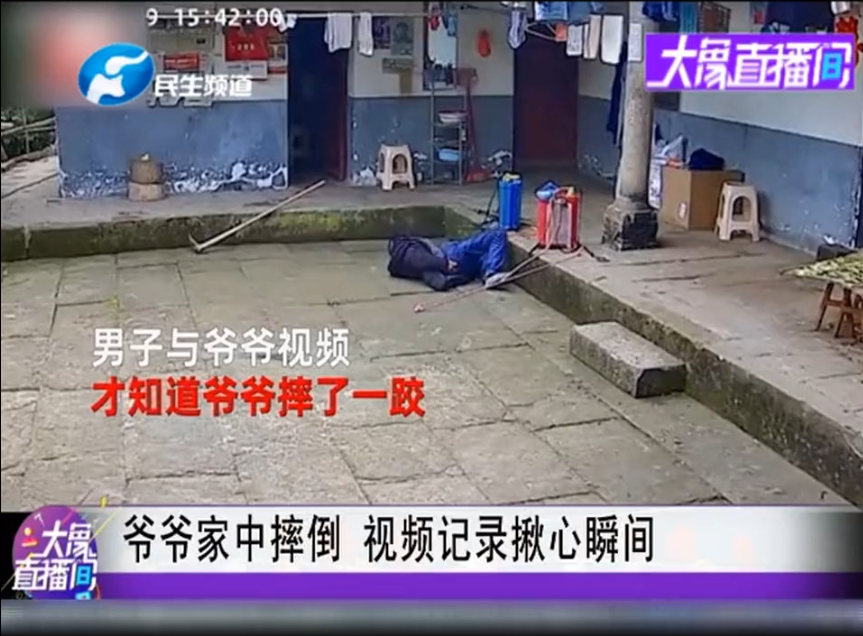fall: (380, 227, 516, 287)
